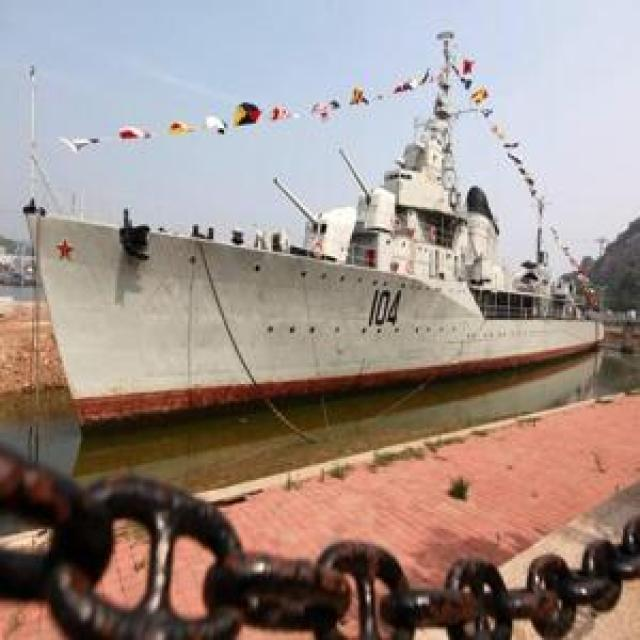navalvessels: (29, 98, 608, 411)
